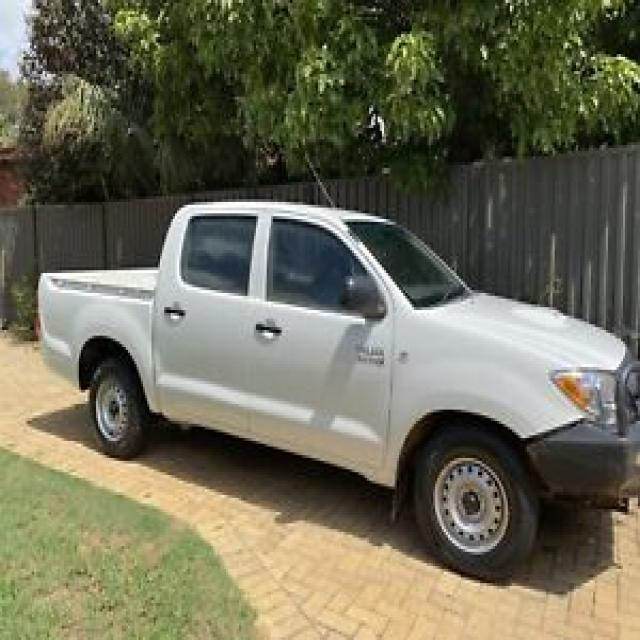light_vehicle: (32, 182, 638, 589)
